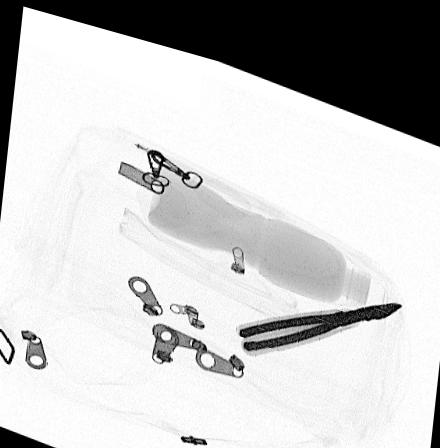Pliers: (234, 277, 402, 339)
